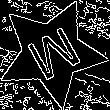M_SE: (19, 20, 85, 86)
